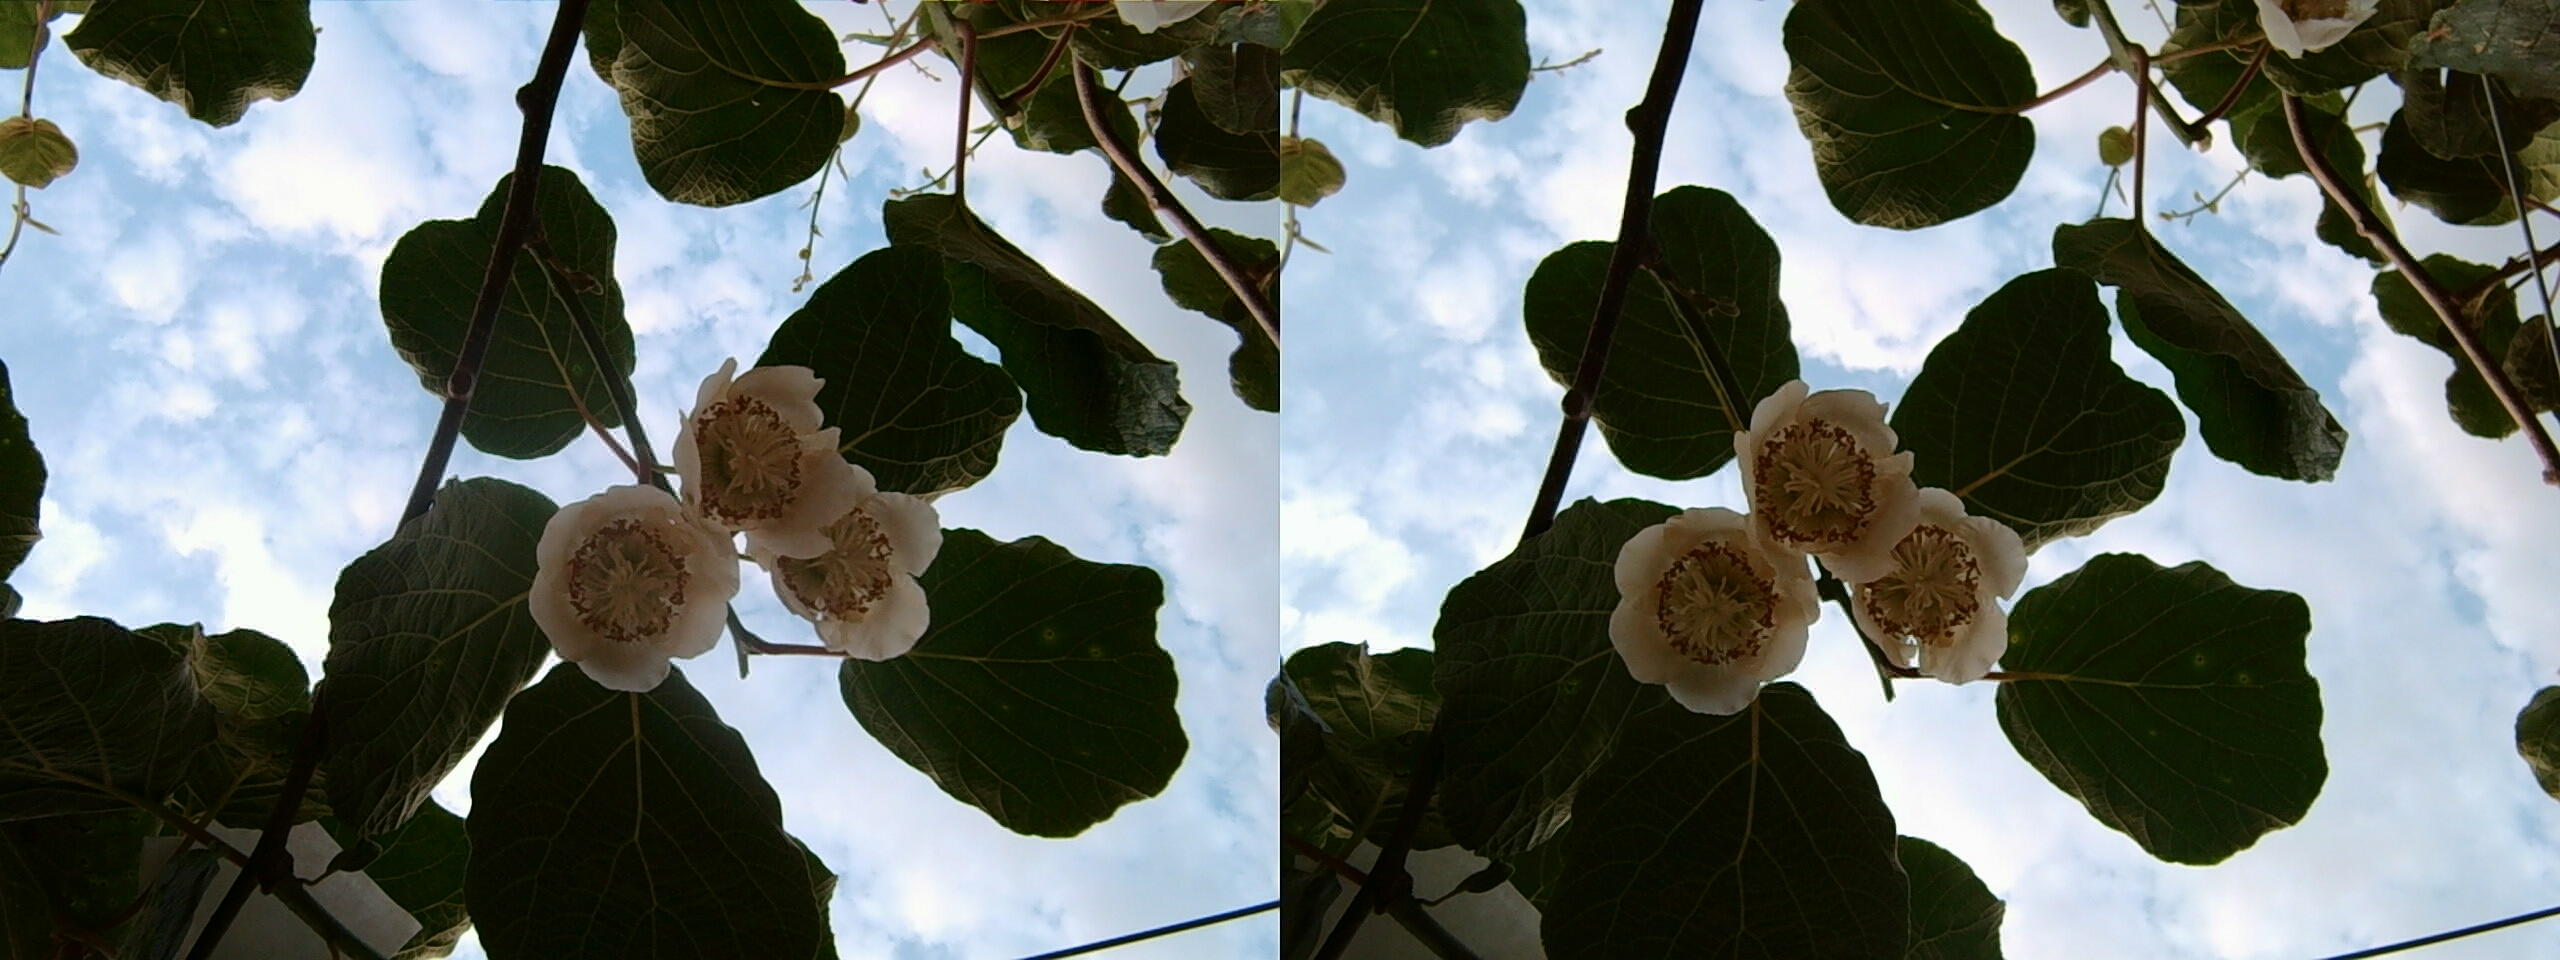flower: (1598, 501, 1817, 712), (527, 473, 741, 686), (1816, 477, 2021, 674), (1732, 376, 1922, 568), (676, 353, 860, 550), (761, 478, 940, 656)
